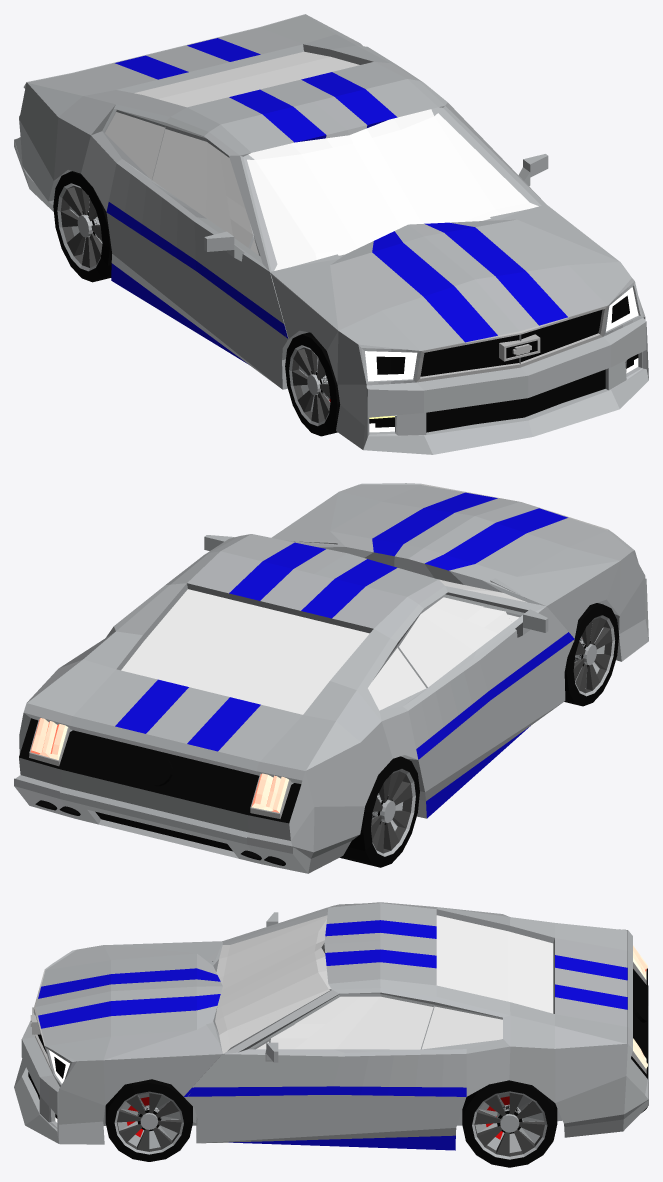
File: sport_car_2.gltf
3 views of the same model, one above another, from view 1: azimuth 30°, elevation 25°; view 2: azimuth 150°, elevation 25°; view 3: azimuth 270°, elevation 25° (orthographic). The views are drawn at different scales.
Parts seen in each view (by area): view 1: Cube; view 2: Cube; view 3: Cube.
Part boxes in pixels (x1,y1,x2,y2): Cube: [14, 14, 648, 454]; Cube: [14, 483, 648, 873]; Cube: [14, 902, 648, 1167].
Bounding box in the file's own units: 2.61 × 1.43 × 5.02.
